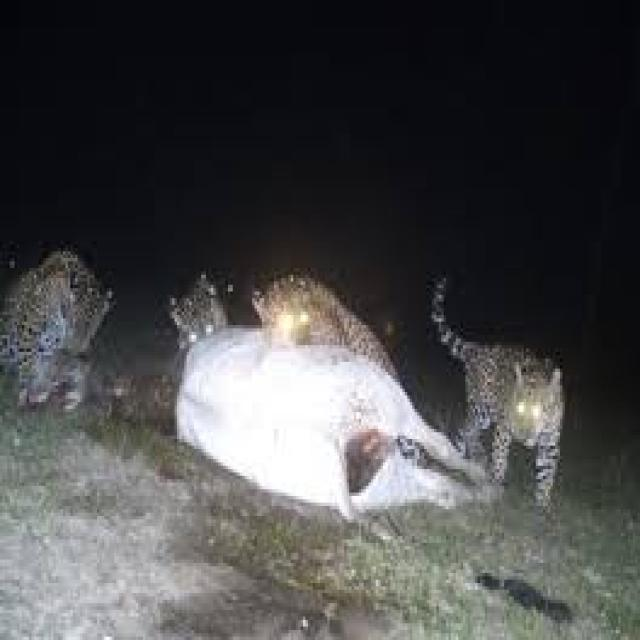Jaguar: (427, 271, 567, 516), (0, 245, 121, 432), (252, 271, 405, 389), (162, 268, 233, 359)
